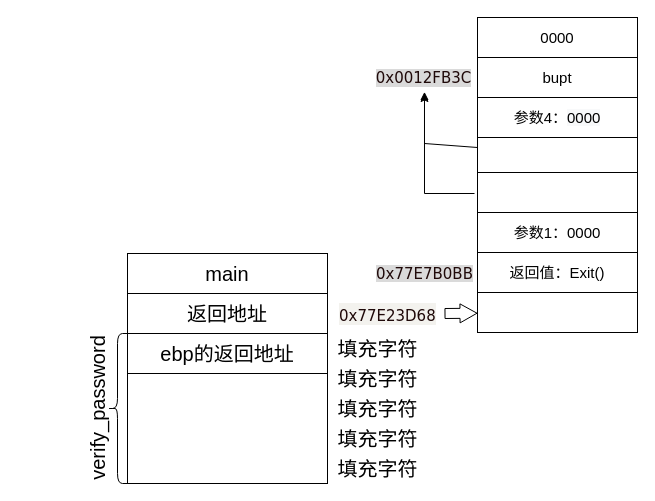
The diagram is 655 pixels wide and 501 high, and some of its shapes have lost their labels. Here are the shapes that lost their labels. From the top down, the box of each, then its label:
(476, 136, 638, 178): 参数3：消息框内容
(476, 172, 638, 212): 参数2：消息框标题
(476, 292, 638, 332): Messagebox()
(126, 372, 328, 484): buff[44]
